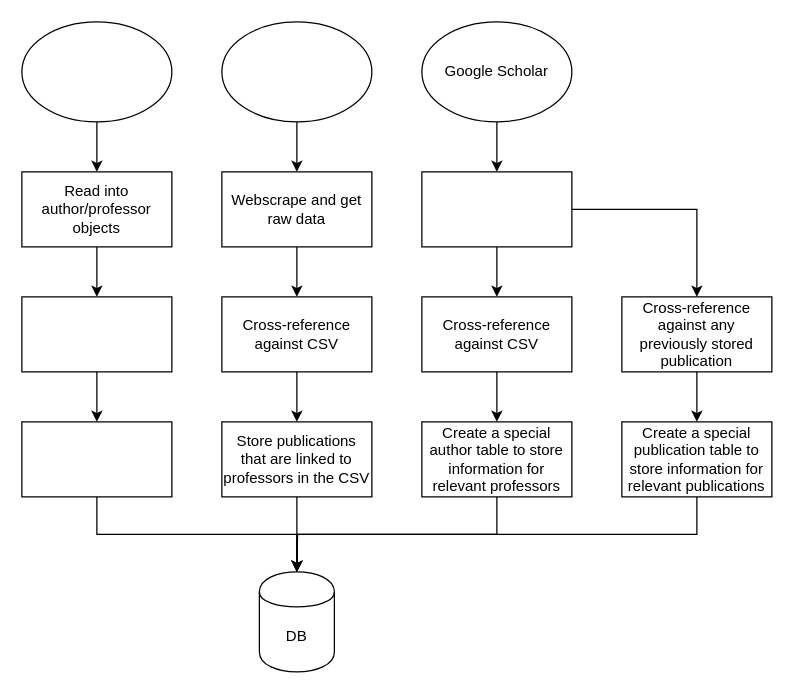
Image size: 794x694. Some labels were removed from this diagram. The shapes that lost their labels are listed below. From the top down, each one's centre as x and y in pixels, then its label:
[96,71]: CSV
[296,71]: UTDallas
[496,209]: Run script to store all professors and publications into a file
[96,334]: Use as main reference
[96,459]: Store each name as an author object
